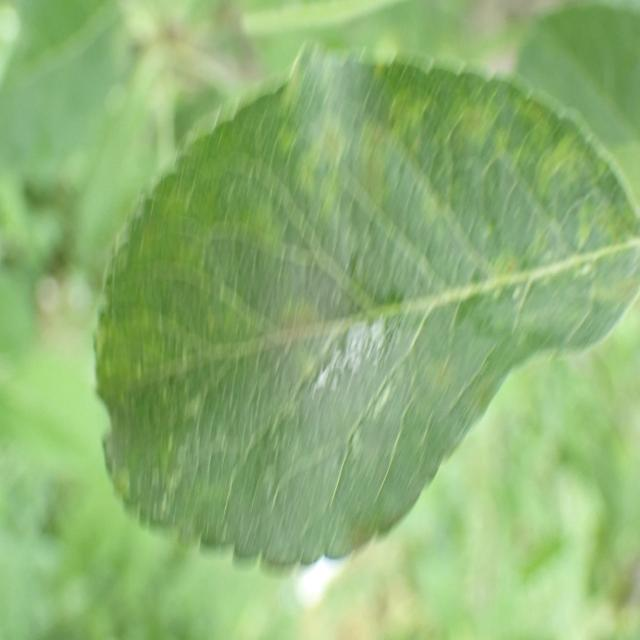scab: (103, 77, 634, 554)
